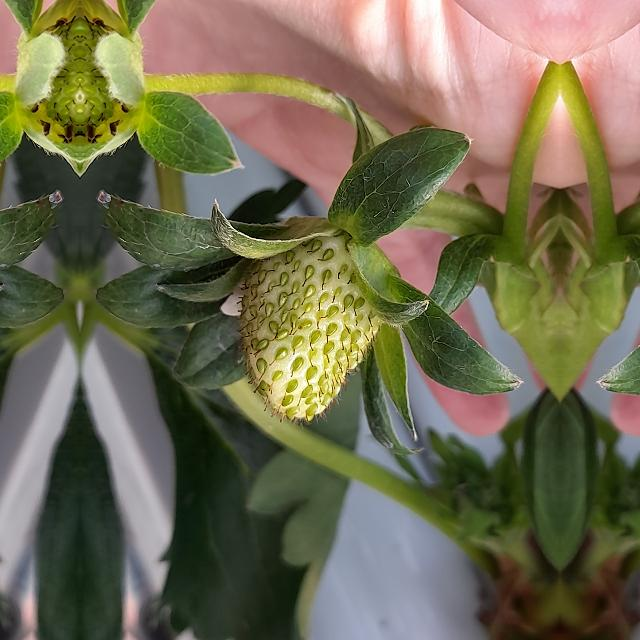Health_25: (235, 233, 382, 427)
